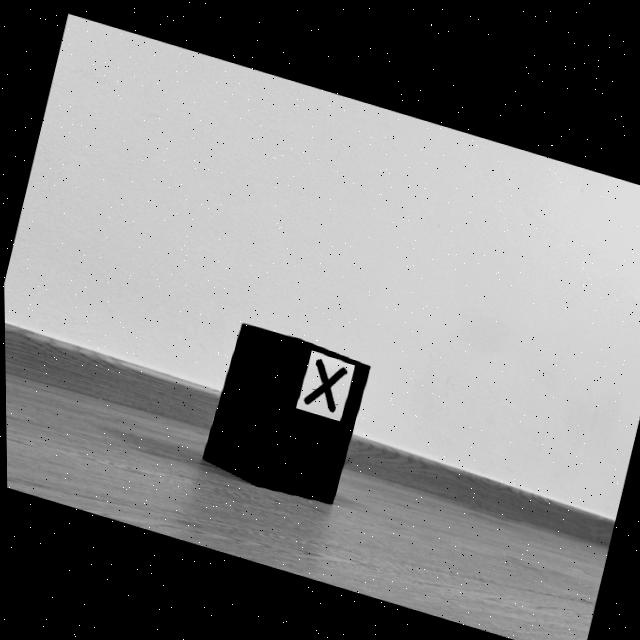X: (303, 356, 345, 408)
